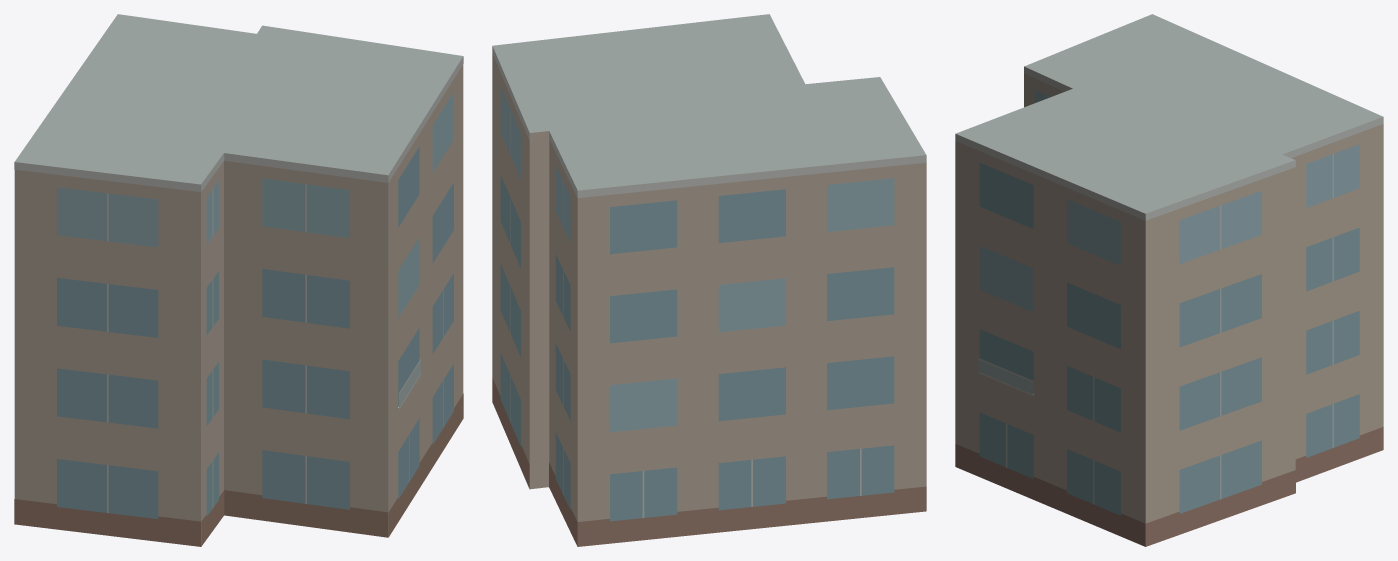
The model's file is survey-upis-32594857.glb.
3 renders of one model, left to right at view 1: azimuth 30°, elevation 25°; view 2: azimuth 150°, elevation 25°; view 3: azimuth 270°, elevation 25°, orthographic. The views are drawn at different scales.
Visible parts, largest first — view 1: survey-upis-32594857.tmp; view 2: survey-upis-32594857.tmp; view 3: survey-upis-32594857.tmp.
Part boxes in pixels (<box>): survey-upis-32594857.tmp: <box>14,14,463,546</box>; survey-upis-32594857.tmp: <box>492,14,926,546</box>; survey-upis-32594857.tmp: <box>955,14,1383,546</box>.
Bounding box in the file's own units: 14.93 × 11.6 × 13.52.
